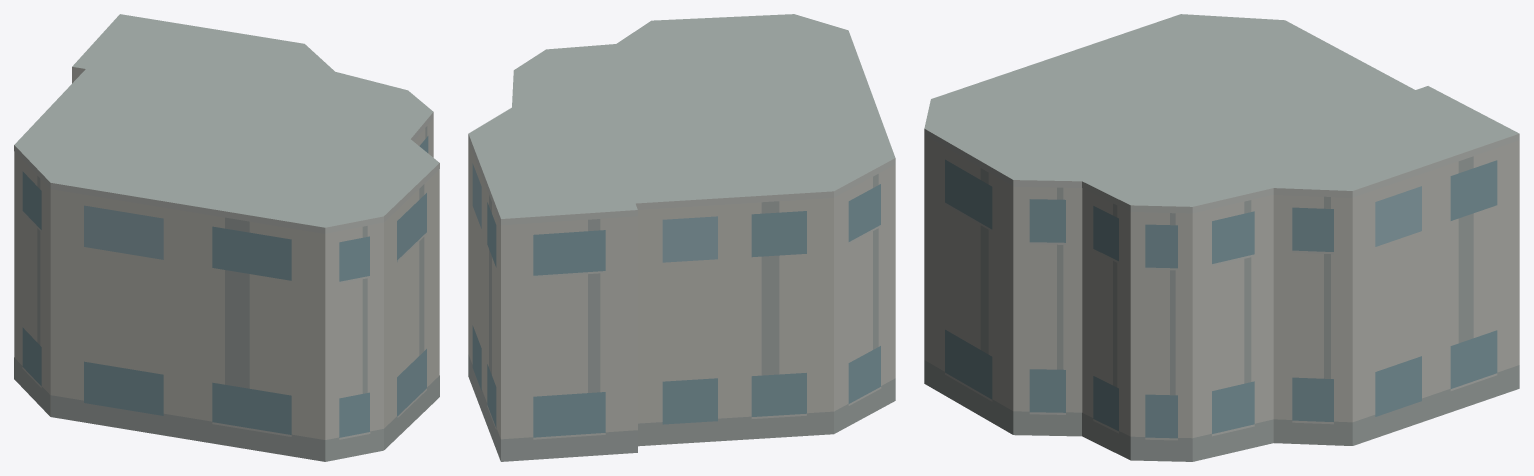
The model's file is survey-upis-32639567.glb.
The picture shows the model from 3 angles, left to right: view 1: azimuth 30°, elevation 25°; view 2: azimuth 150°, elevation 25°; view 3: azimuth 270°, elevation 25°; orthographic projection. The views are drawn at different scales.
Visible parts, largest first — view 1: survey-upis-32639567.tmp; view 2: survey-upis-32639567.tmp; view 3: survey-upis-32639567.tmp.
Boxes of the visible parts, <box> form: survey-upis-32639567.tmp: <box>14,14,439,461</box>; survey-upis-32639567.tmp: <box>468,14,895,461</box>; survey-upis-32639567.tmp: <box>924,14,1519,461</box>.
Size of the model in its own units: 14.85 by 9.15 by 19.37.
